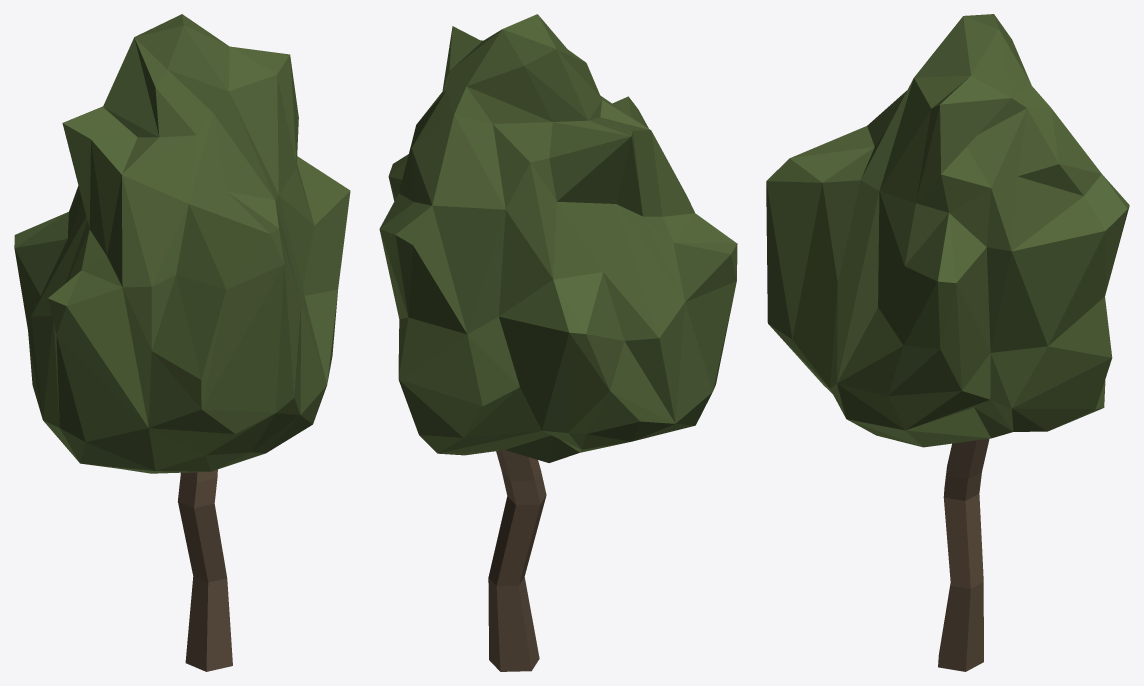
File: tree_35.fbx
The picture shows the model from 3 angles, left to right: view 1: azimuth 30°, elevation 25°; view 2: azimuth 150°, elevation 25°; view 3: azimuth 270°, elevation 25°; orthographic projection. The views are drawn at different scales.
Parts seen in each view (by area): view 1: tree_035; view 2: tree_035; view 3: tree_035.
Boxes of the visible parts, bbox=[...] form: tree_035: bbox=[14, 14, 350, 671]; tree_035: bbox=[379, 14, 737, 671]; tree_035: bbox=[766, 14, 1129, 671].
Size of the model in its own units: 0.9113 by 1.76 by 0.9164.
Materials: 1 (1 with a texture image).
